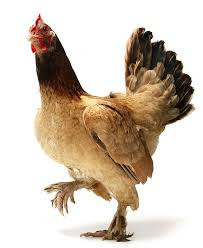chicken: (16, 5, 197, 246)
